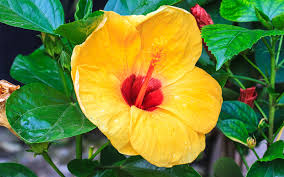hybiscus: (68, 7, 222, 166)
